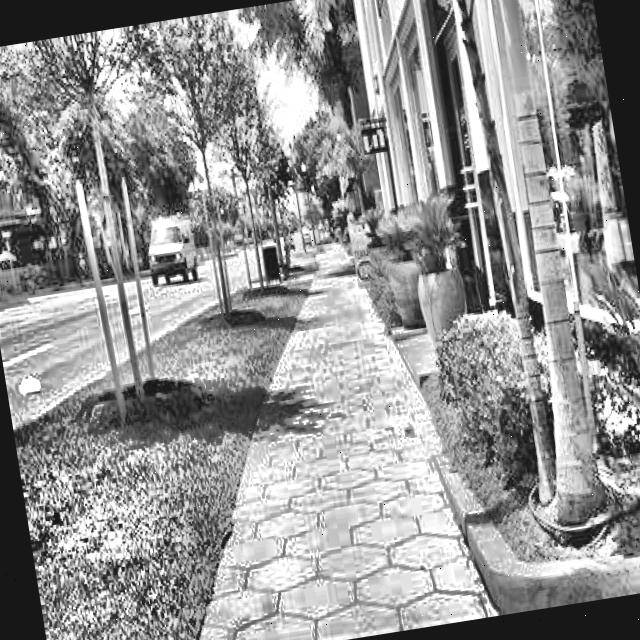sidewalks: (202, 246, 485, 640)
